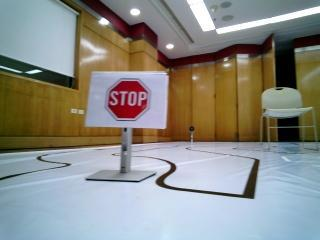stop: (91, 74, 166, 132)
